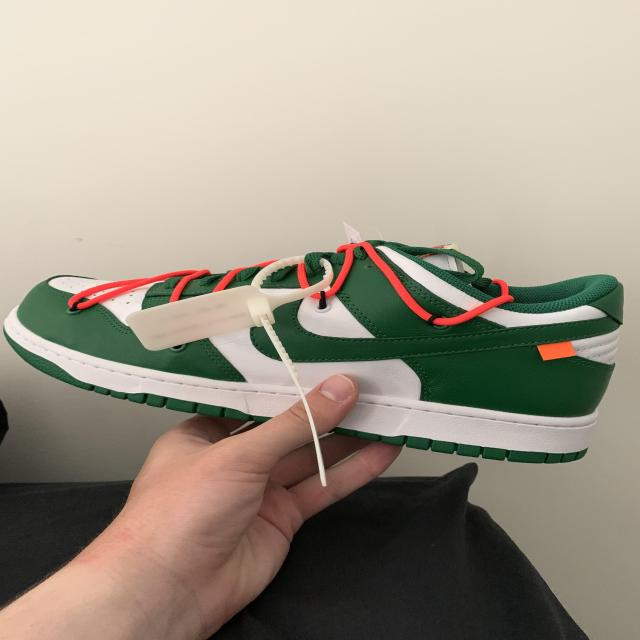shoe: (0, 237, 627, 465)
